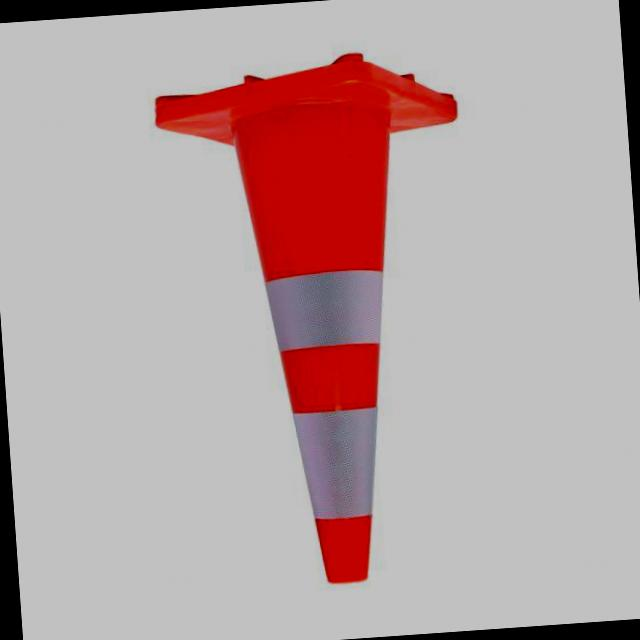cone: (144, 41, 508, 602)
